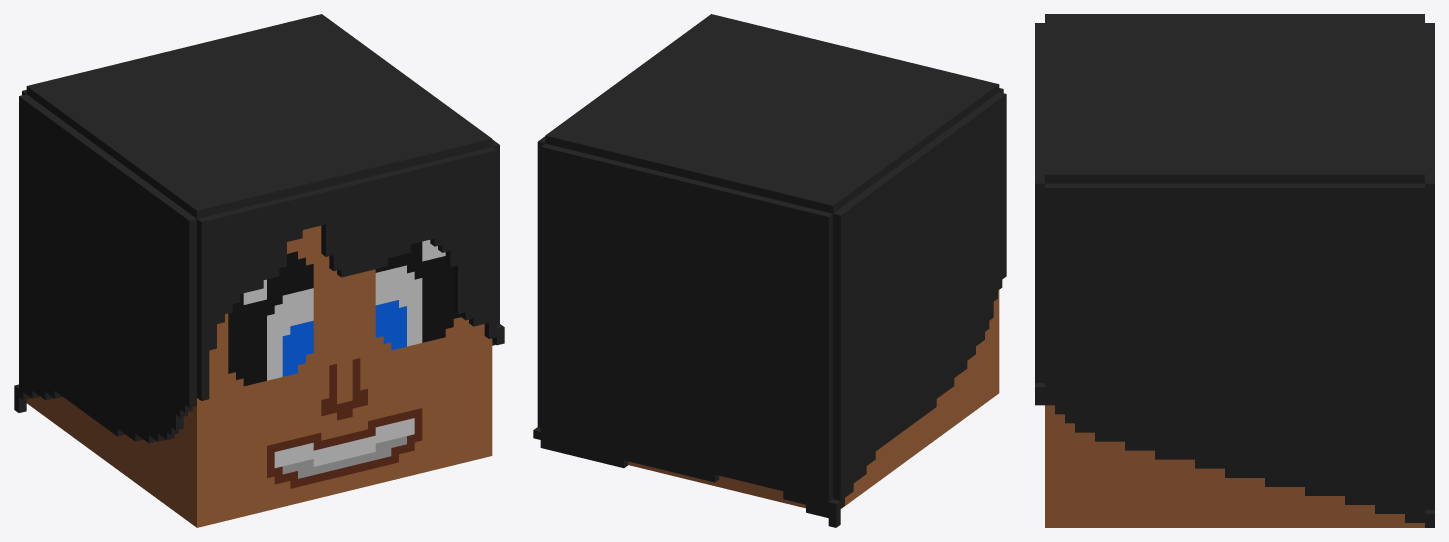
File: cabezar.obj
3 renders of one model, left to right at view 1: azimuth 30°, elevation 25°; view 2: azimuth 150°, elevation 25°; view 3: azimuth 270°, elevation 25°, orthographic. The views are drawn at different scales.
Size of the model in its own units: 4 by 4 by 4.
Materials: 1 (1 with a texture image).
